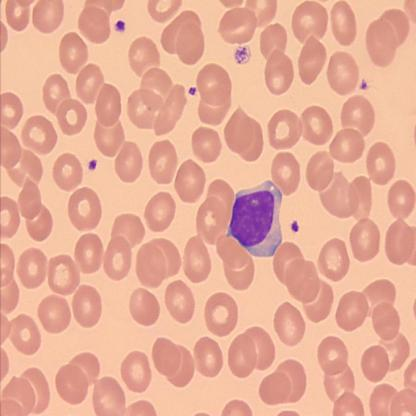Atypical lymphocyte: (226, 178, 285, 260)
